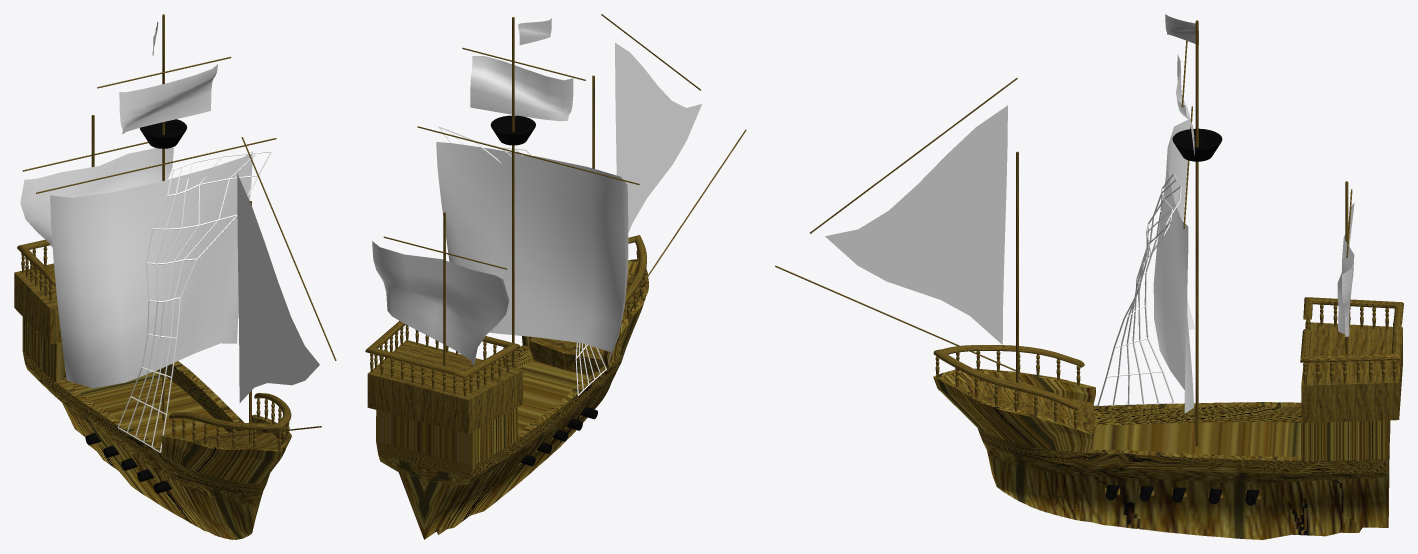
Rendered from ship2.FBX.
The picture shows the model from 3 angles, left to right: view 1: azimuth 30°, elevation 25°; view 2: azimuth 150°, elevation 25°; view 3: azimuth 270°, elevation 25°; orthographic projection. The views are drawn at different scales.
Parts seen in each view (by area): view 1: sail04, ship, sail02, sail00, ropes, sail06, basket; view 2: ship, sail04, sail00, sail02, sail06, basket, ropes, sail007; view 3: ship, sail02, sail04, ropes, sail00, basket.
Part boxes in pixels (x1,y1,x2,y2): sail04: (50, 151, 252, 388); ship: (14, 14, 336, 539); sail02: (237, 174, 319, 402); sail00: (20, 148, 173, 247); ropes: (117, 151, 271, 452); sail06: (119, 64, 217, 134); basket: (140, 119, 187, 148); ship: (365, 14, 746, 539); sail04: (436, 142, 628, 363); sail00: (372, 241, 509, 365); sail02: (615, 43, 701, 232); sail06: (470, 56, 573, 121); basket: (490, 115, 535, 145); ropes: (438, 126, 606, 395); sail007: (518, 18, 551, 45); ship: (775, 20, 1403, 539); sail02: (825, 105, 1007, 344); sail04: (1153, 120, 1194, 413); ropes: (1097, 173, 1181, 405); sail00: (1337, 202, 1354, 336); basket: (1172, 128, 1222, 161).
Size of the model in its own units: 852 by 1707 by 1870.
